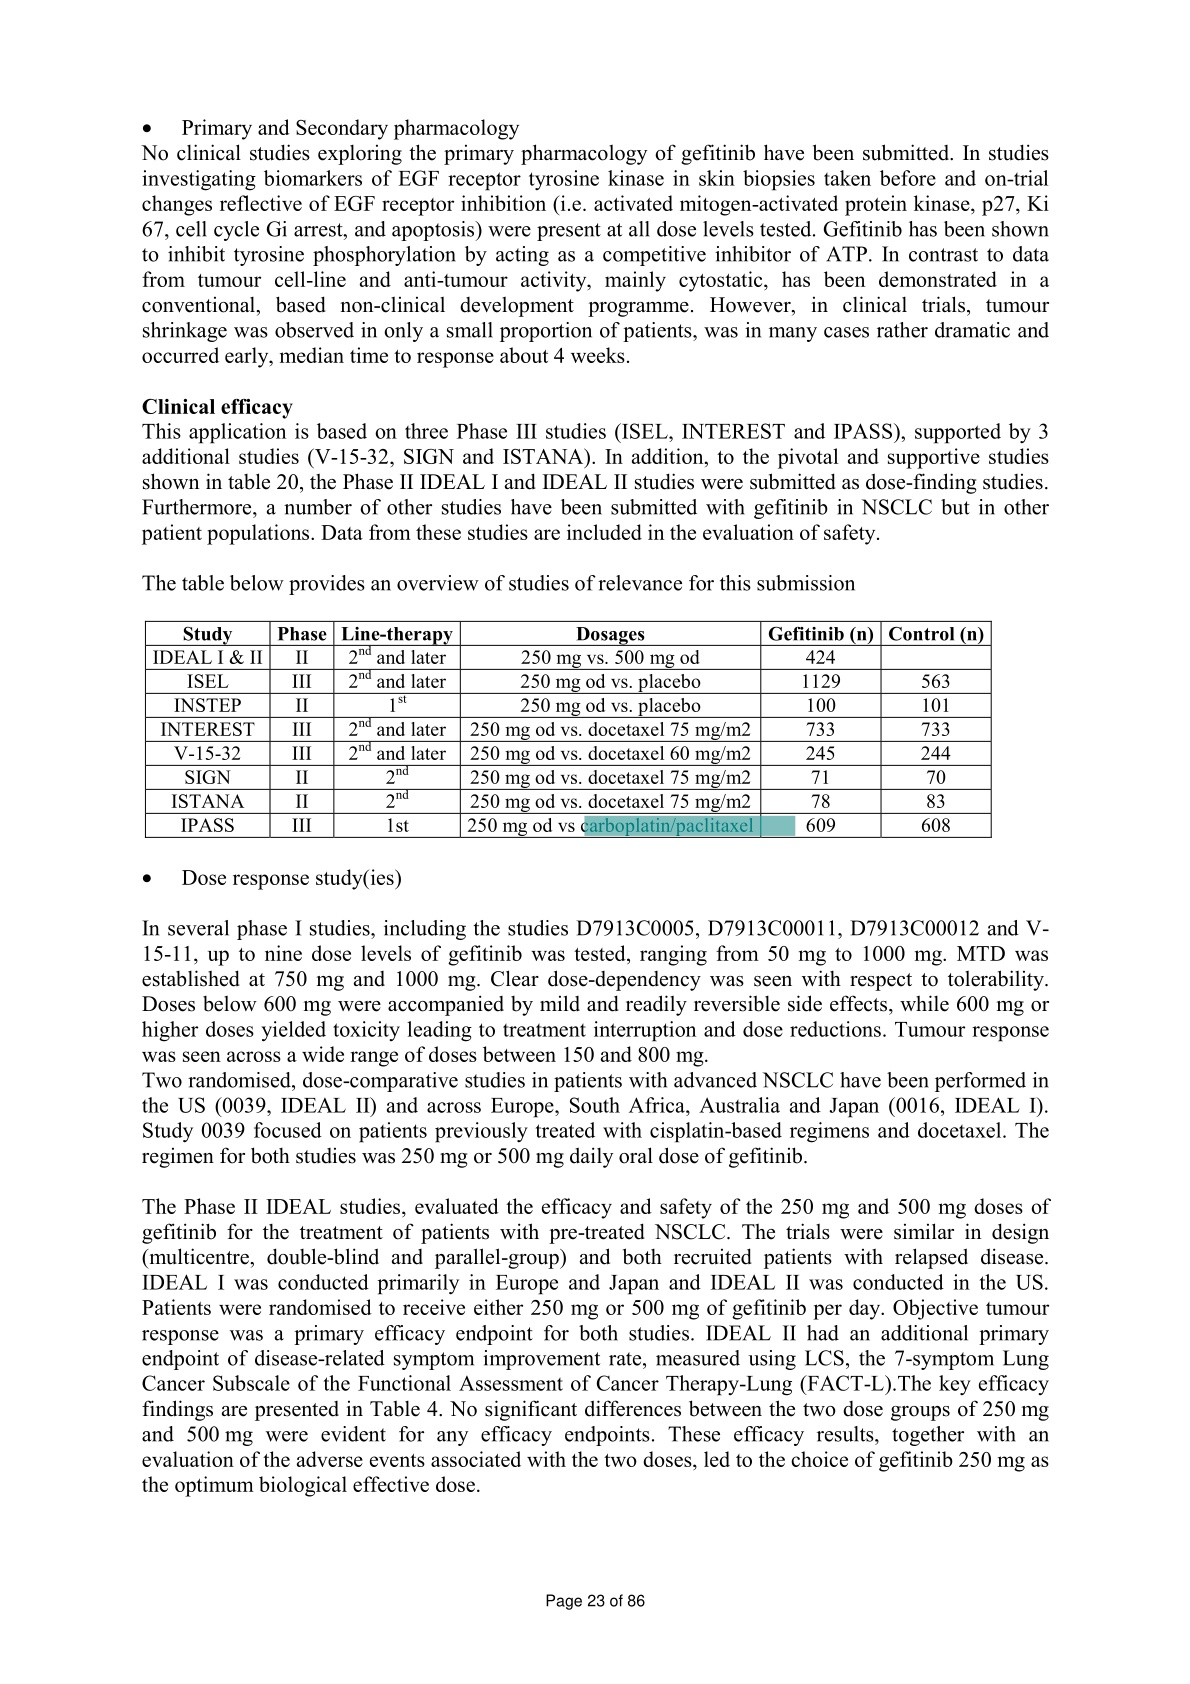full_lined: (144, 621, 993, 839)
